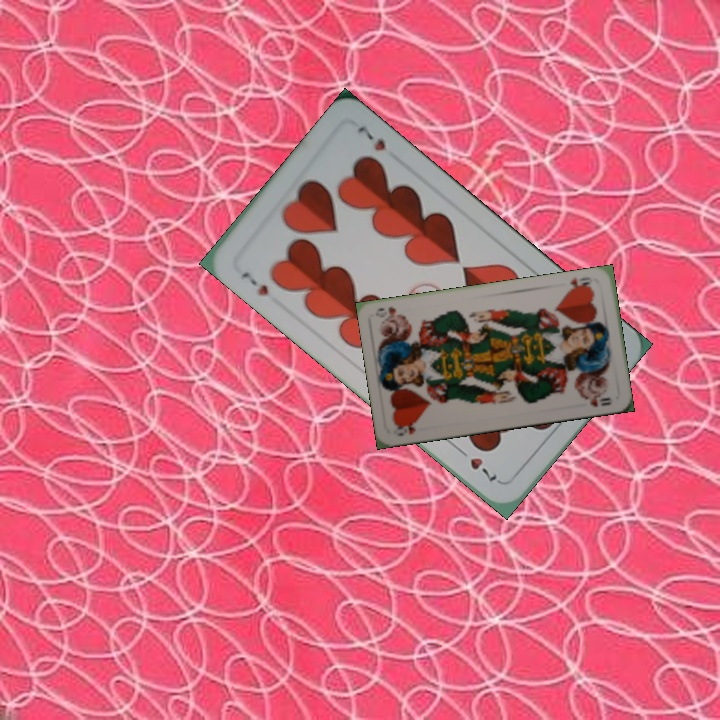H7: (237, 267, 271, 299)
HO: (563, 273, 595, 294), (390, 419, 420, 439)
